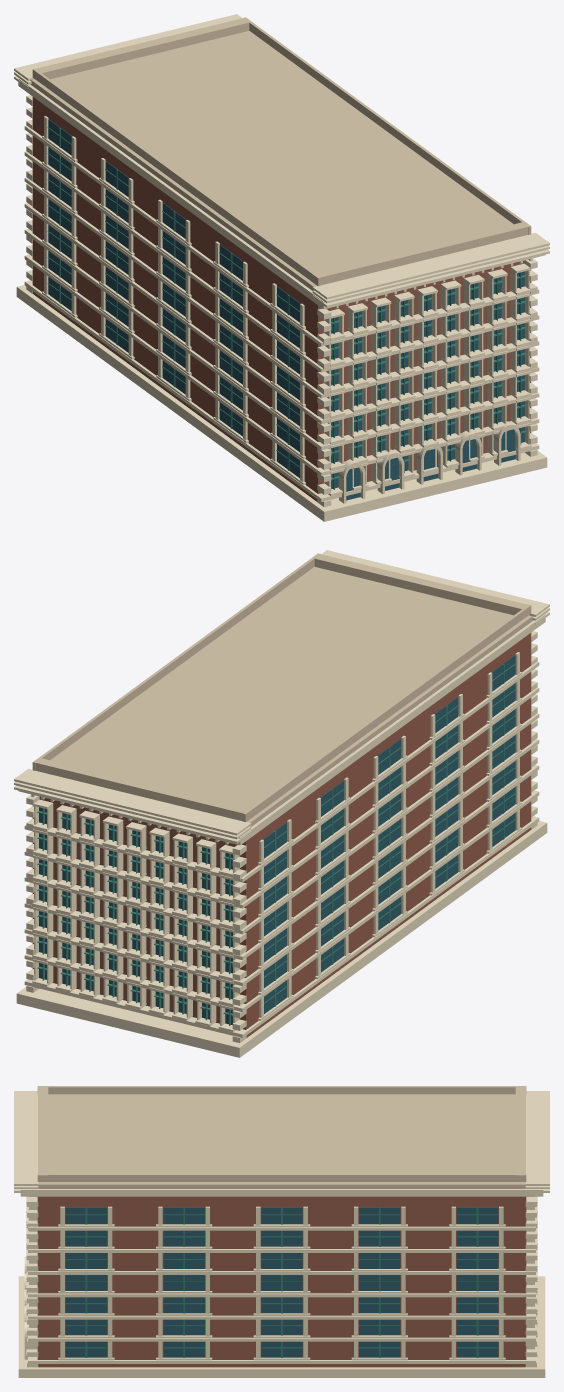
Rendered from nissin-building.glb.
3 renders of one model, top to bottom at view 1: azimuth 30°, elevation 25°; view 2: azimuth 150°, elevation 25°; view 3: azimuth 270°, elevation 25°, orthographic. The views are drawn at different scales.
Visible parts, largest first — view 1: nissin-building; view 2: nissin-building; view 3: nissin-building.
Part boxes in pixels (x1=…): nissin-building: x1=14, y1=14, x2=549, y2=521; nissin-building: x1=14, y1=550, x2=549, y2=1057; nissin-building: x1=14, y1=1086, x2=549, y2=1377.
Bounding box in the file's own units: 23.69 × 23.8 × 57.6.
